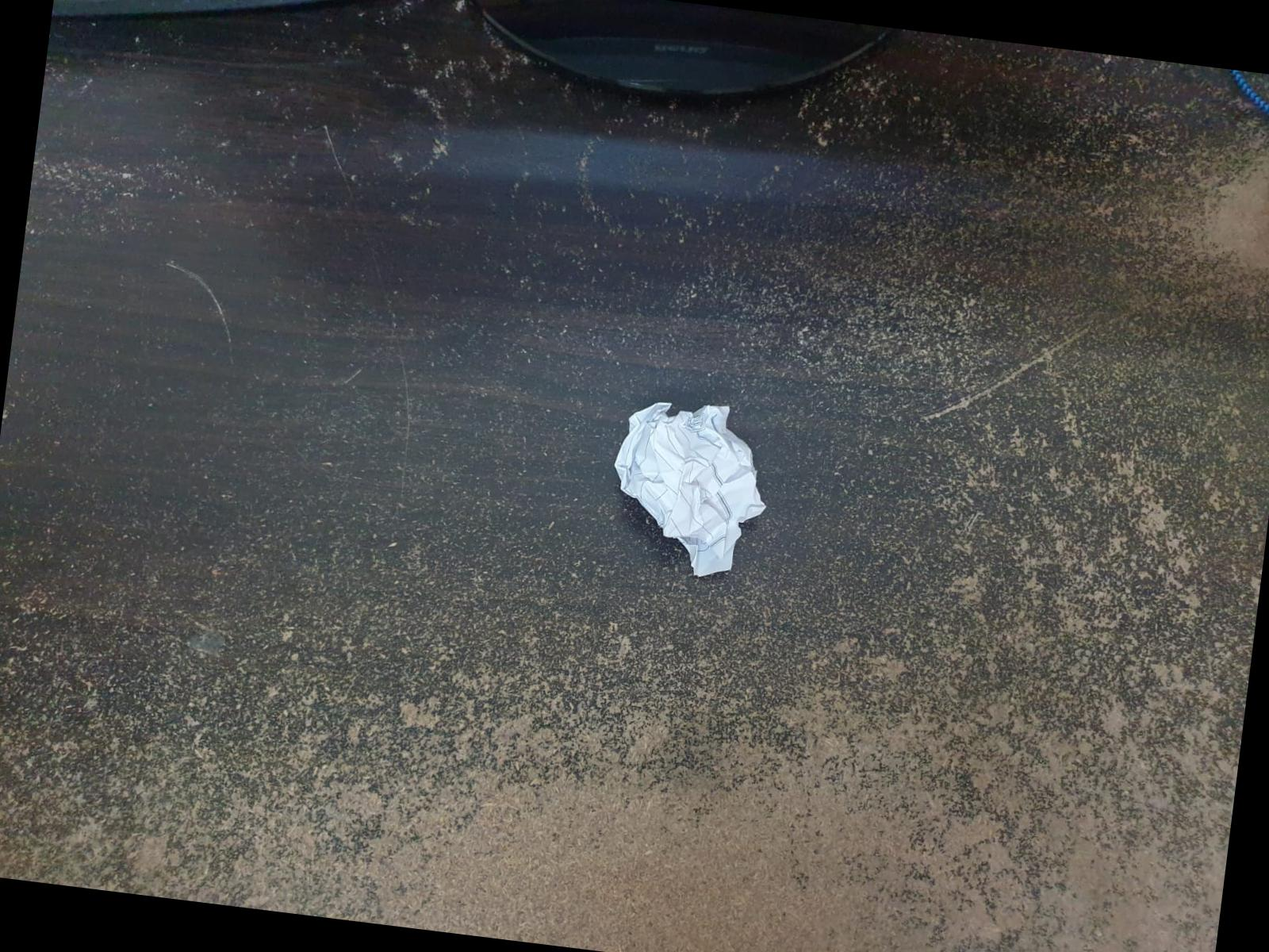Kertas: (609, 400, 771, 583)
